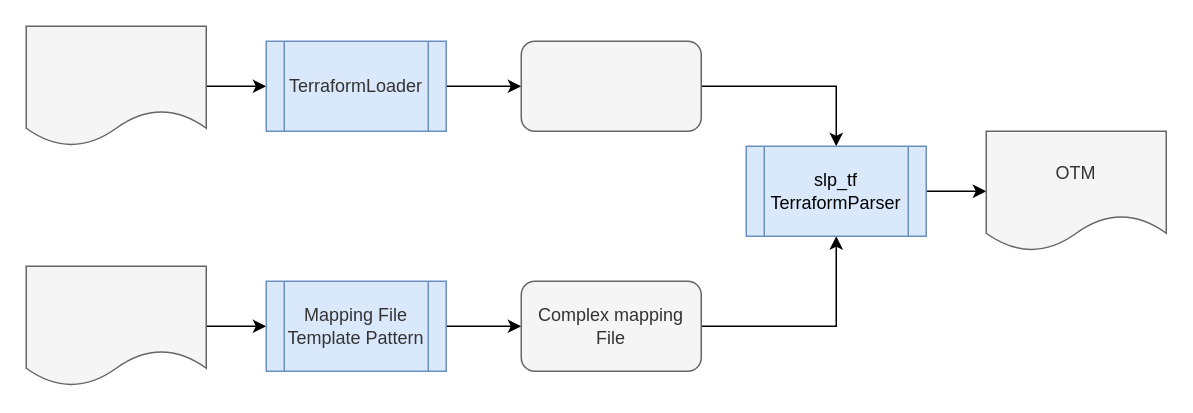
Image size: 1193x413. Some labels were removed from this diagram. Each missing label, with the box of its shape:
Mapping File: (25, 265, 206, 386)
Terraform source dictionary: (520, 40, 701, 131)
Terraform Source File: (25, 25, 206, 146)
